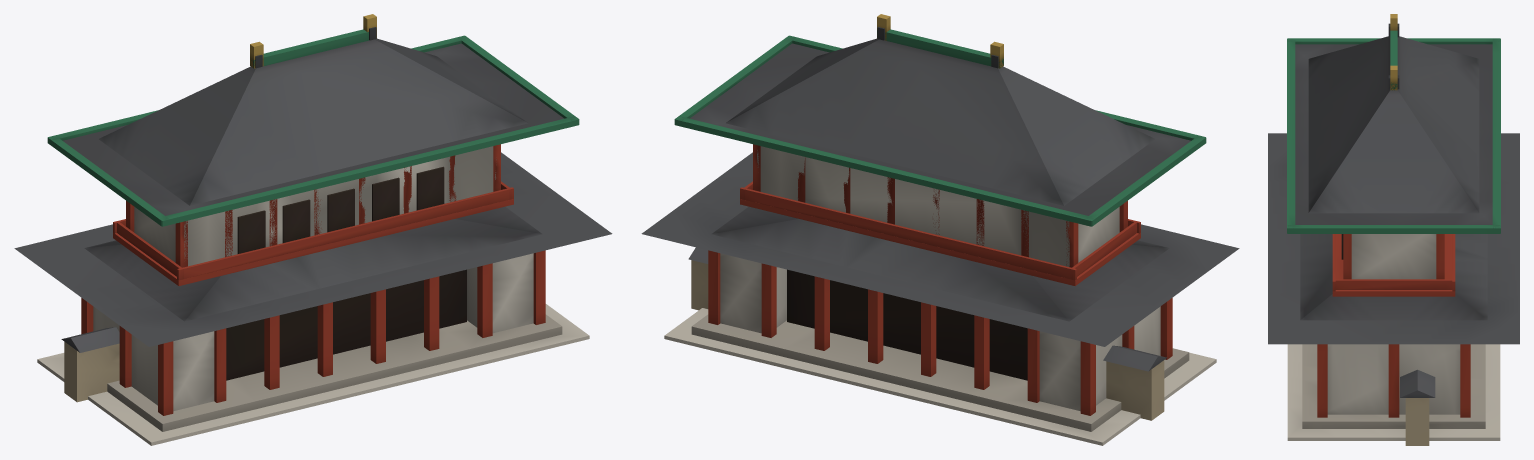
The model's file is suzakumon.glb.
3 views of the same model, side by side, from view 1: azimuth 30°, elevation 25°; view 2: azimuth 150°, elevation 25°; view 3: azimuth 270°, elevation 25° (orthographic). The views are drawn at different scales.
Visible parts, largest first — view 1: p2_roofs, p1_halls, p0_grounds; view 2: p2_roofs, p1_halls, p0_grounds; view 3: p2_roofs, p1_halls, p0_grounds.
Boxes of the visible parts, x1,y1,x2,y2 form: p2_roofs: (14, 14, 612, 346); p1_halls: (81, 144, 562, 431); p0_grounds: (37, 304, 589, 445); p2_roofs: (641, 14, 1239, 346); p1_halls: (691, 144, 1189, 431); p0_grounds: (664, 247, 1216, 445); p2_roofs: (1268, 14, 1519, 344); p1_halls: (1302, 234, 1485, 428); p0_grounds: (1287, 344, 1500, 445).
Bounding box in the file's own units: 42.32 × 27.94 × 21.32.
